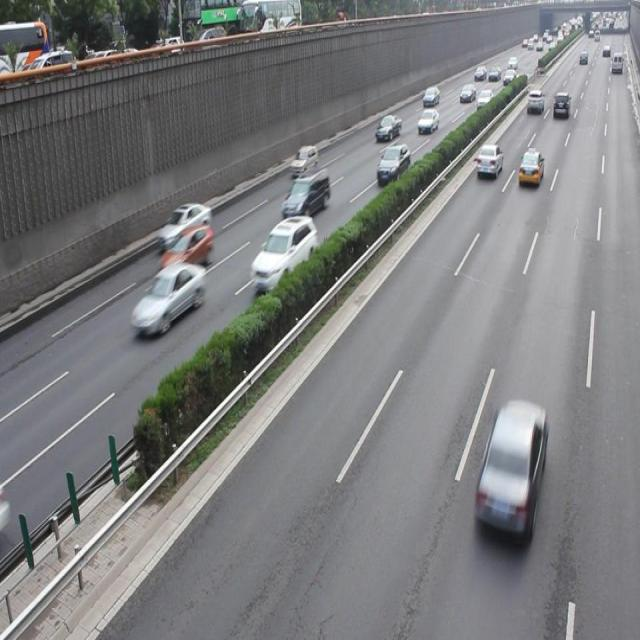car: (472, 399, 545, 541), (129, 262, 206, 338), (250, 216, 318, 289), (158, 222, 214, 276), (157, 202, 210, 247), (375, 143, 410, 184), (517, 150, 543, 188), (474, 143, 501, 179), (289, 143, 316, 176)
truck: (281, 166, 330, 218)
